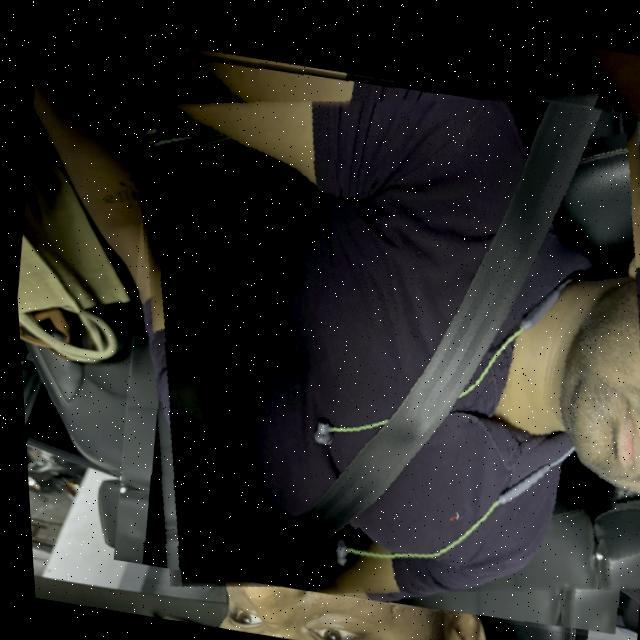seatbelt: (82, 34, 640, 640)
